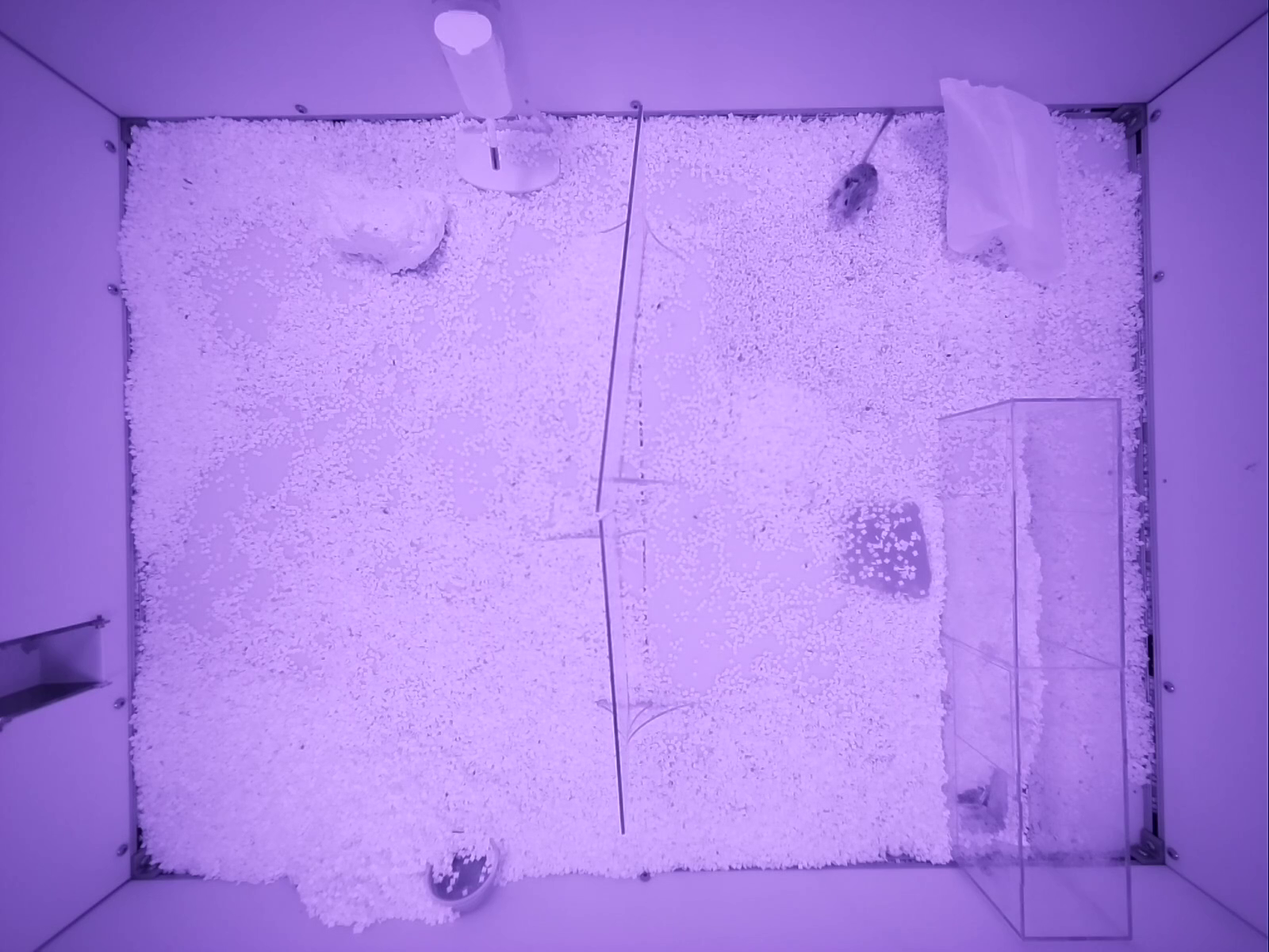adult_back: (830, 113, 892, 220)
